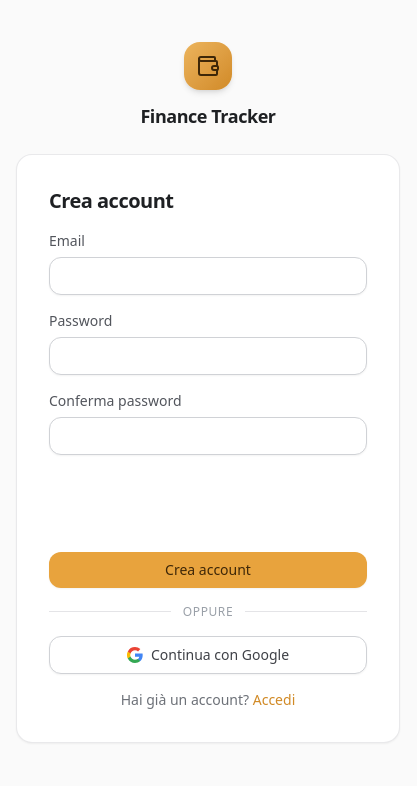
RegisterPage › shows error for invalid email
Type "notanemail" into the field labelled "Email".
click(208, 276); type("notanemail")  # box [49,256,367,294]
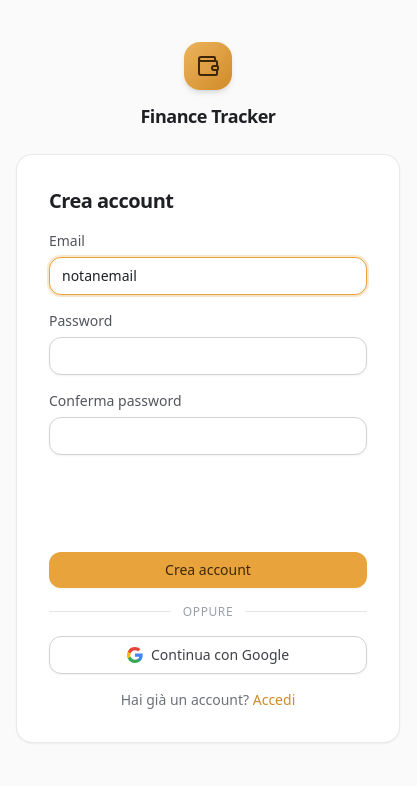
Type "password123" into the password field labelled "Password".
click(208, 356); type("password123")  # box [49,336,367,374]
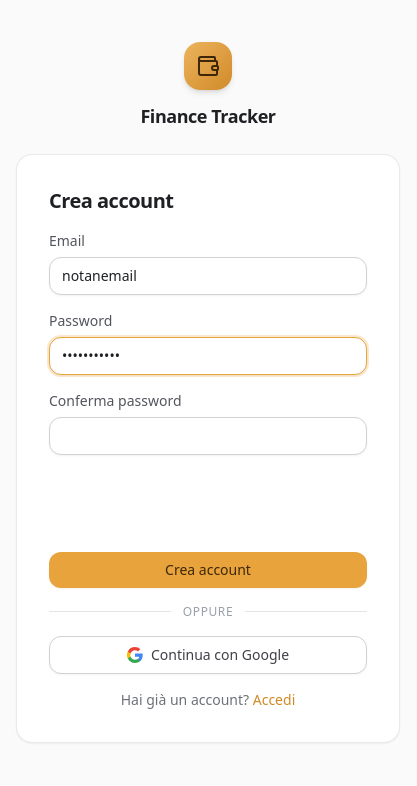
Type "password123" into the password field labelled "Conferma password".
click(208, 436); type("password123")  # box [49,416,367,454]
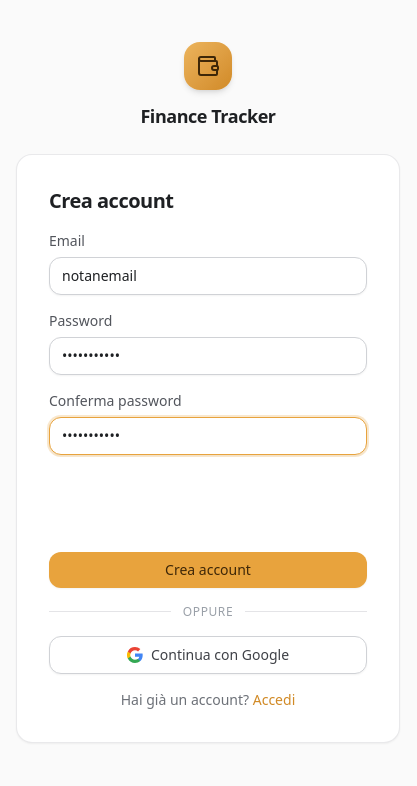
Click the button "Crea account".
click(208, 570)  # box [49,552,367,588]
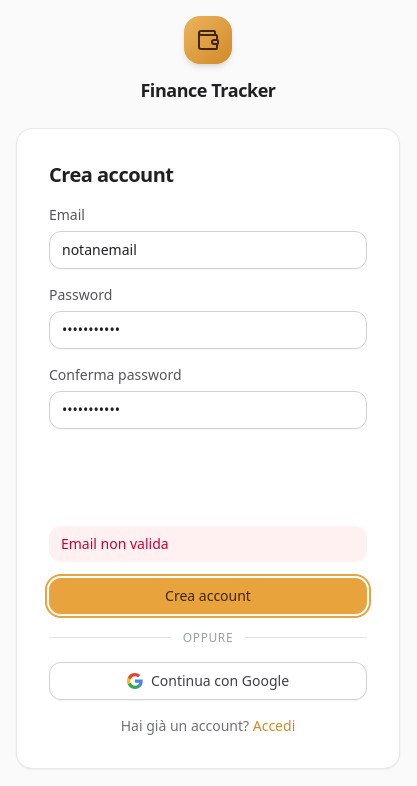
Result: the text "Email non valida" is shown at [49,526,367,562]
